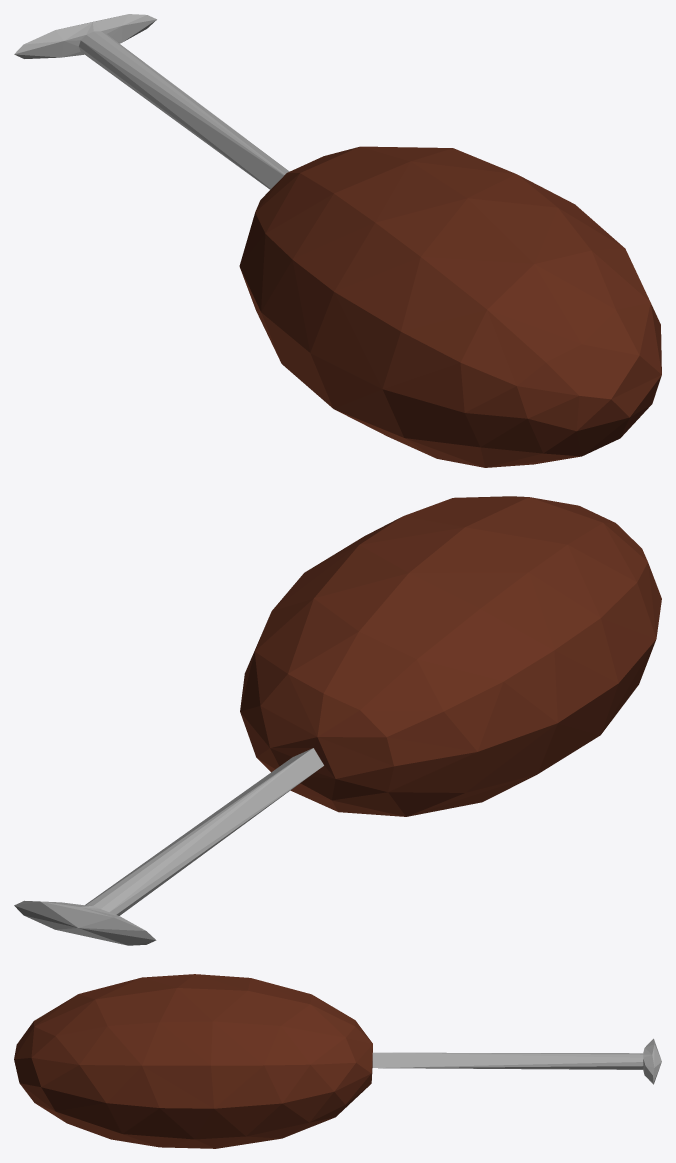
File: ham.fbx
3 renders of one model, top to bottom at view 1: azimuth 30°, elevation 25°; view 2: azimuth 150°, elevation 25°; view 3: azimuth 270°, elevation 25°, orthographic. The views are drawn at different scales.
Parts seen in each view (by area): view 1: Sphere; view 2: Sphere; view 3: Sphere.
Boxes of the visible parts, bbox=[...] form: Sphere: bbox=[14, 14, 661, 467]; Sphere: bbox=[14, 496, 661, 945]; Sphere: bbox=[14, 974, 661, 1148].
Bounding box in the file's own units: 200 × 145 × 578.
